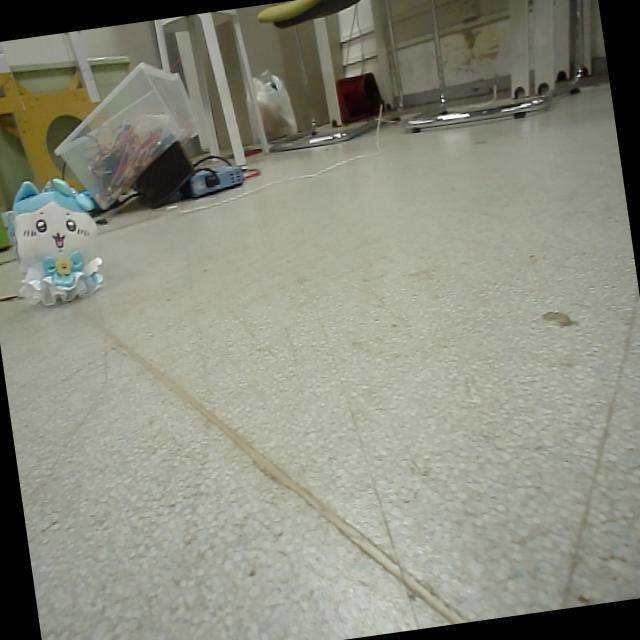xiaoba: (0, 168, 114, 311)
